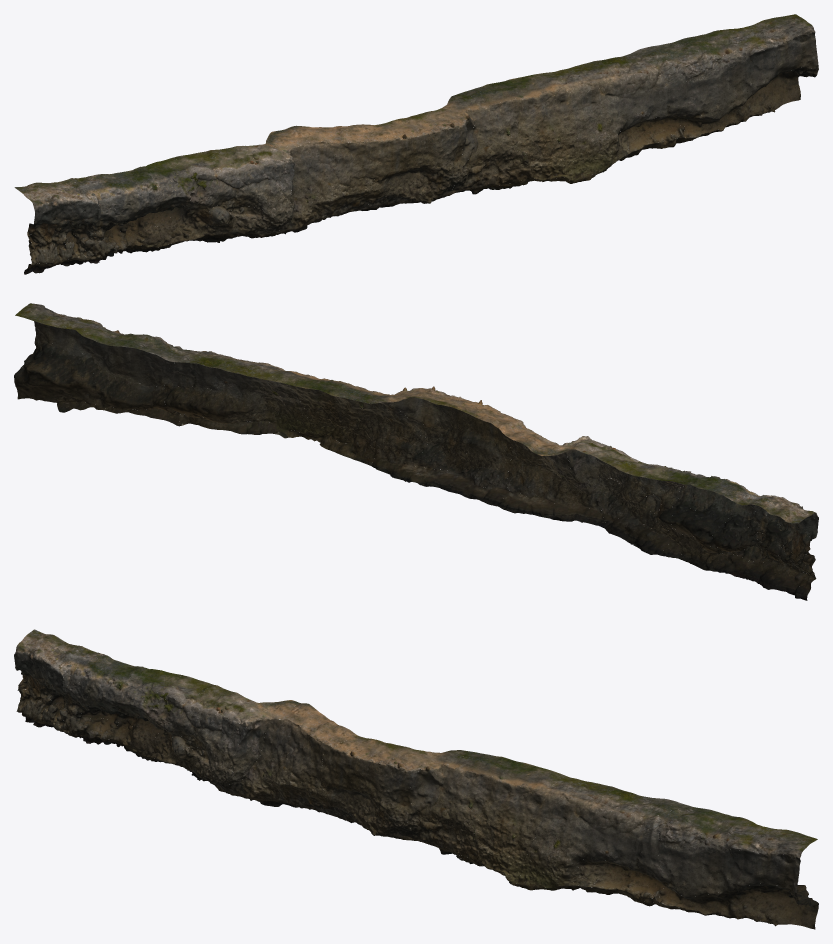
Rendered from coastal_cliff_lod1.glb.
3 renders of one model, top to bottom at view 1: azimuth 30°, elevation 25°; view 2: azimuth 150°, elevation 25°; view 3: azimuth 330°, elevation 25°, orthographic. The views are drawn at different scales.
Visible parts, largest first — view 1: CoastalCliff_LOD1; view 2: CoastalCliff_LOD1; view 3: CoastalCliff_LOD1.
Boxes of the visible parts, x1,y1,x2,y2 form: CoastalCliff_LOD1: [14, 14, 818, 274]; CoastalCliff_LOD1: [14, 303, 818, 600]; CoastalCliff_LOD1: [14, 629, 818, 929].
Size of the model in its own units: 91.98 by 10.33 by 10.97.
Materials: 1 (1 with a texture image).
